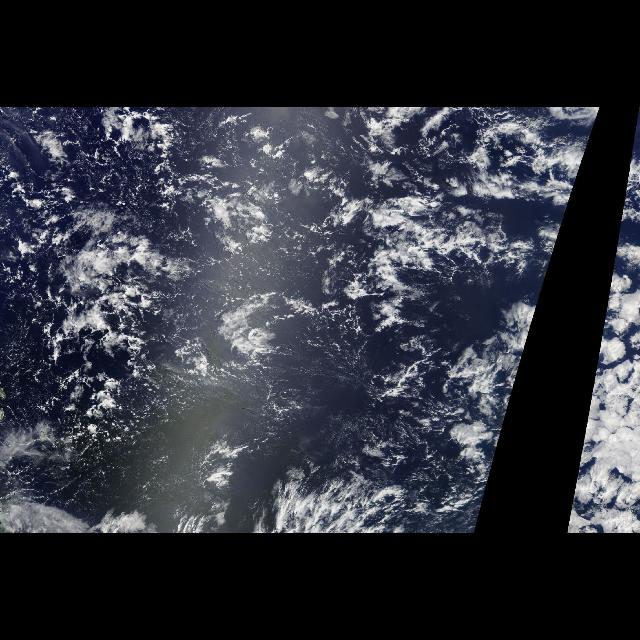Flower: (23, 180, 364, 442)
Gravel: (19, 132, 298, 408)
